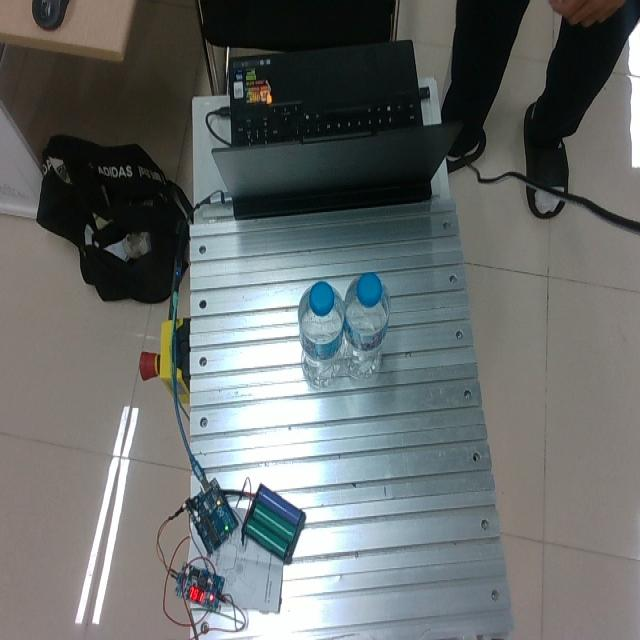lavie: (297, 280, 347, 388), (341, 272, 389, 380)
